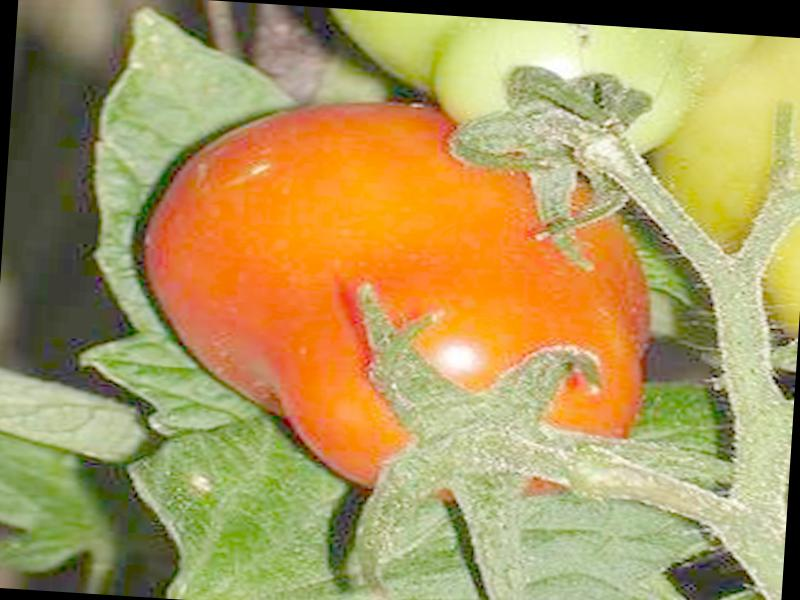Tomato: (128, 89, 657, 511)
